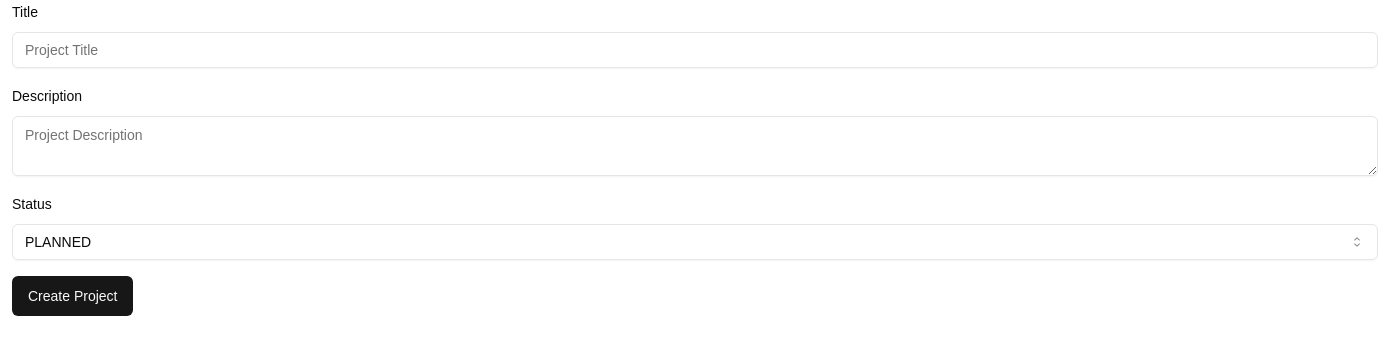
Test: ProjectForm › displays validation errors for invalid inputs
Click the button "Create Project" at (73,296), box left=12, top=276, right=134, bottom=316
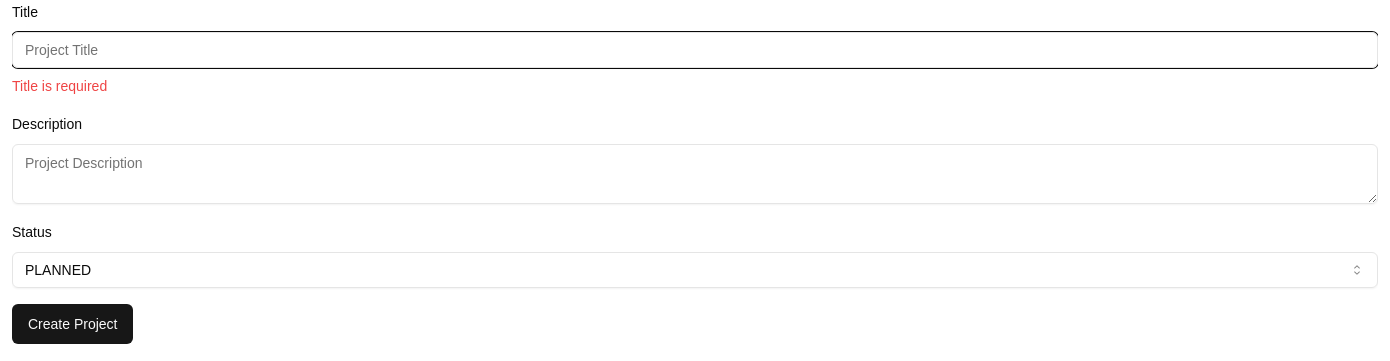
Expected: the text "Title is required" is shown, left=12, top=78, right=107, bottom=94
